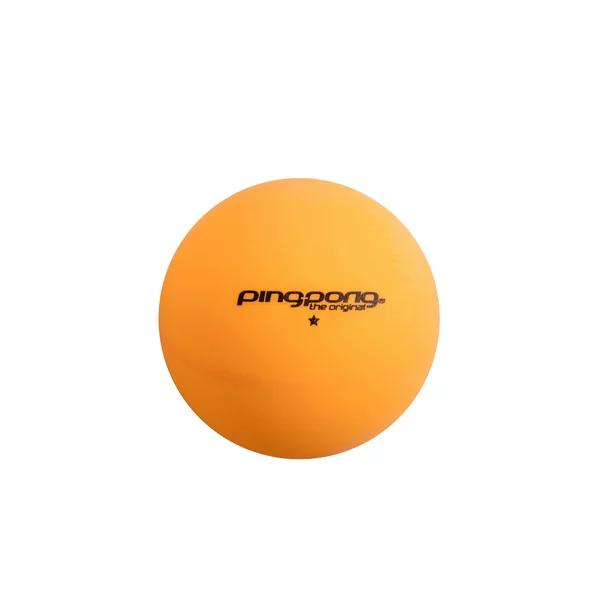oball: (160, 175, 441, 459)
